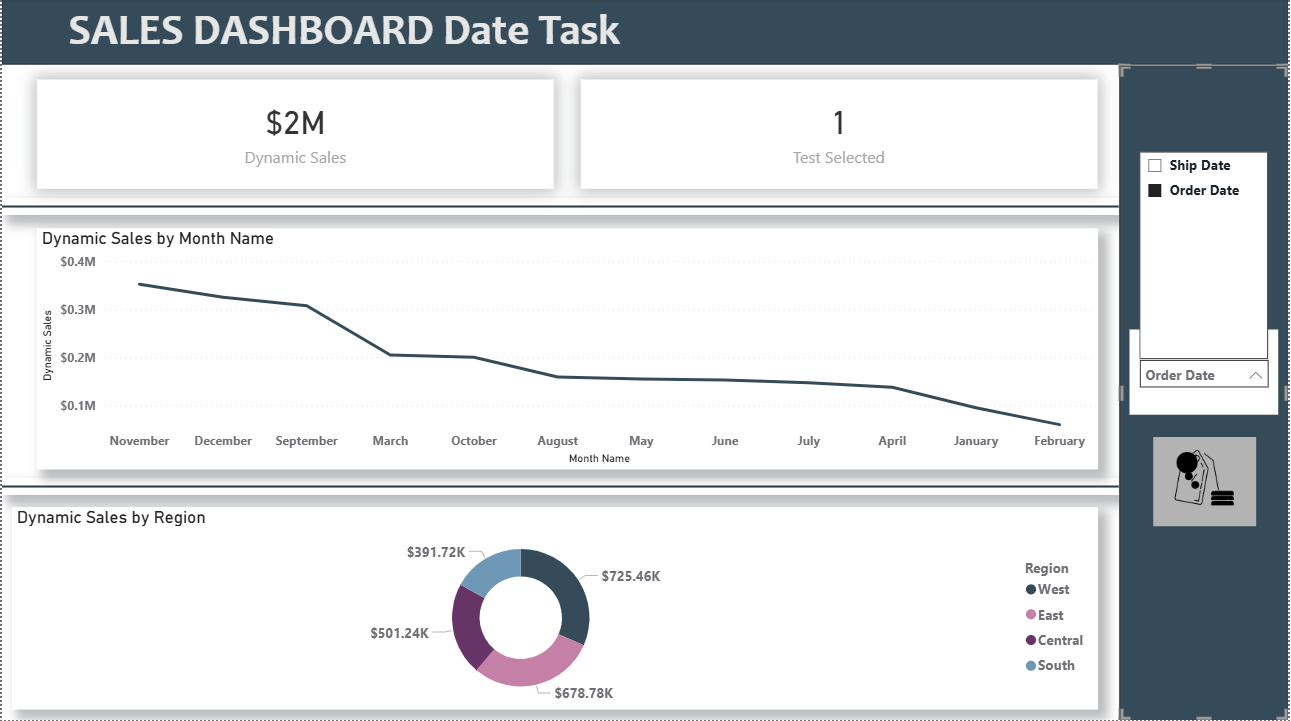

What the dashboard file says about the page in this screenshot:
{"tool":"powerbi","page":{"name":"Page 1","canvas":[1280,720],"ordinal":0},"visuals":[{"type":"advanceCardE03760C5AB684758B56AA29F9E6C257B","fields":{"mainMeasure":["Orders.Dynamic Sales"]},"box":[34.3,82.3,514.6,108.4],"z":0},{"type":"shape","box":[0,0,1280.3,67.2],"z":1000,"group":"g1"},{"type":"shape","box":[1111.5,68.1,168.5,651.9],"z":1000,"group":"g2"},{"type":"shape","box":[0,200.3,1111.5,16.5],"z":1000},{"type":"advanceCardE03760C5AB684758B56AA29F9E6C257B","fields":{"mainMeasure":["Orders.Test Selected"]},"box":[576.3,82.3,514.6,108.4],"z":2000},{"type":"shape","box":[0,478.9,1111.5,16.5],"z":3000},{"type":"donutChart","fields":{"Y":["Orders.Dynamic Sales"],"Category":["Orders.Region"]},"box":[8.2,495.4,1081.3,212.7],"z":4000},{"type":"lineChart","fields":{"Y":["Orders.Dynamic Sales"],"Category":["Date Table.Month Name"]},"box":[34.3,230.5,1056.6,248.4],"z":5000},{"type":"group","id":"g1","title":"Group 1","box":[0,0,1280,68.1],"z":6000},{"type":"textbox","box":[60.4,1.4,832.9,65.9],"z":7000},{"type":"group","id":"g2","title":"Group 1","box":[1111.5,68.1,168.5,651.9],"z":8000},{"type":"image","box":[1145.2,438.5,102.1,88.5],"z":9000},{"type":"slicer","fields":{"Values":["Date Selector.DateTypeName"]},"box":[1122.5,330.7,148.2,85.1],"z":10000}]}

Visuals, with their boxes in screenshot pixels (x1, y1, x2, y2), scaled from the page's 1280x720 canvas onto the 1291x721 screenshot:
advanceCardE03760C5AB684758B56AA29F9E6C257B - Orders.Dynamic Sales: box(35, 82, 554, 191)
shape: box(0, 0, 1290, 67)
shape: box(1121, 68, 1290, 720)
shape: box(0, 201, 1121, 217)
advanceCardE03760C5AB684758B56AA29F9E6C257B - Orders.Test Selected: box(581, 82, 1100, 191)
shape: box(0, 480, 1121, 496)
donutChart - Orders.Dynamic Sales x Orders.Region: box(8, 496, 1099, 709)
lineChart - Orders.Dynamic Sales x Date Table.Month Name: box(35, 231, 1100, 480)
"Group 1" group: box(0, 0, 1290, 68)
textbox: box(61, 1, 901, 67)
"Group 1" group: box(1121, 68, 1290, 720)
image: box(1155, 439, 1258, 528)
slicer - Date Selector.DateTypeName: box(1132, 331, 1282, 416)
